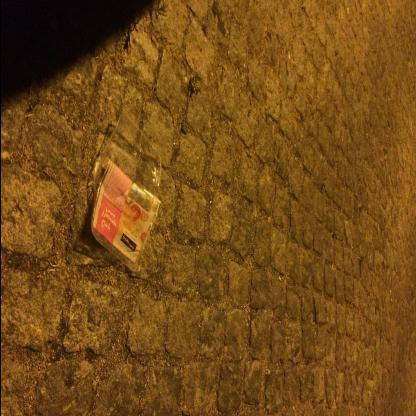plastik: (88, 113, 162, 272)
